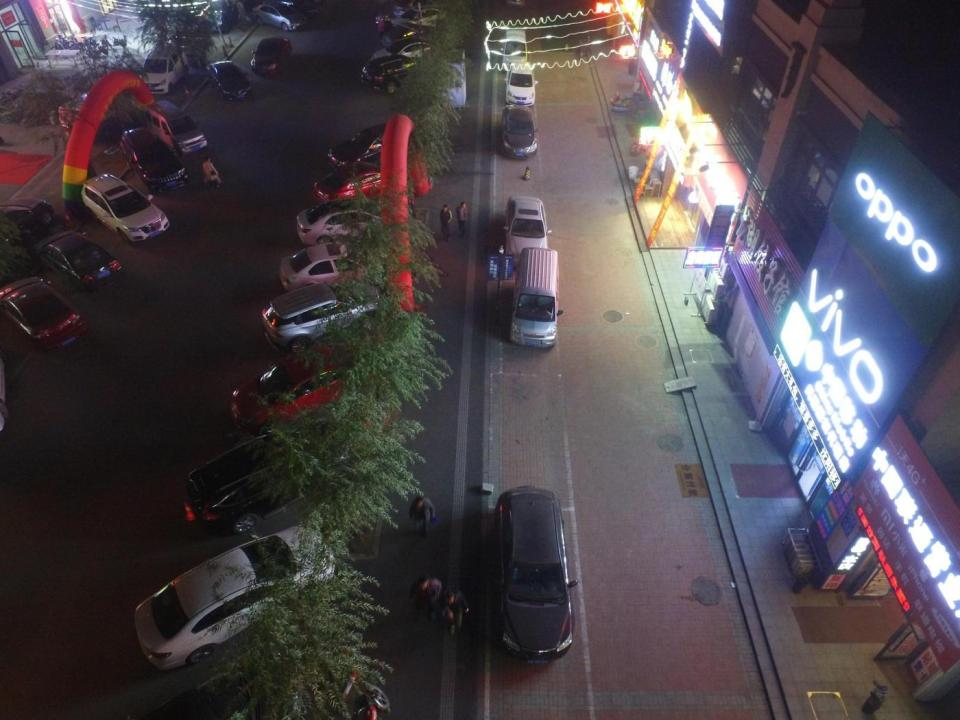car: (133, 525, 336, 668), (230, 343, 382, 433), (130, 652, 304, 720), (0, 276, 86, 350), (30, 230, 124, 292), (296, 197, 405, 247), (280, 242, 384, 294), (0, 196, 54, 286), (313, 162, 405, 207), (504, 196, 552, 270), (370, 38, 441, 73), (502, 105, 540, 158), (382, 21, 448, 50), (206, 60, 251, 101), (387, 6, 446, 37), (193, 0, 239, 34), (252, 2, 306, 30), (505, 61, 538, 106), (251, 37, 291, 74), (392, 1, 446, 20), (270, 0, 322, 19)
van: (186, 427, 348, 532), (497, 485, 579, 662), (260, 282, 378, 353), (82, 174, 170, 244), (510, 246, 564, 348), (327, 122, 417, 173), (58, 83, 137, 141), (120, 127, 186, 192), (145, 99, 206, 156), (361, 54, 428, 94), (140, 43, 189, 93), (499, 26, 530, 74)
